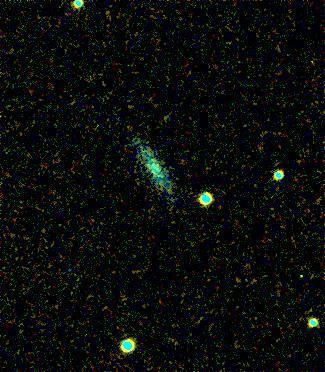star: (284, 261, 314, 291)
